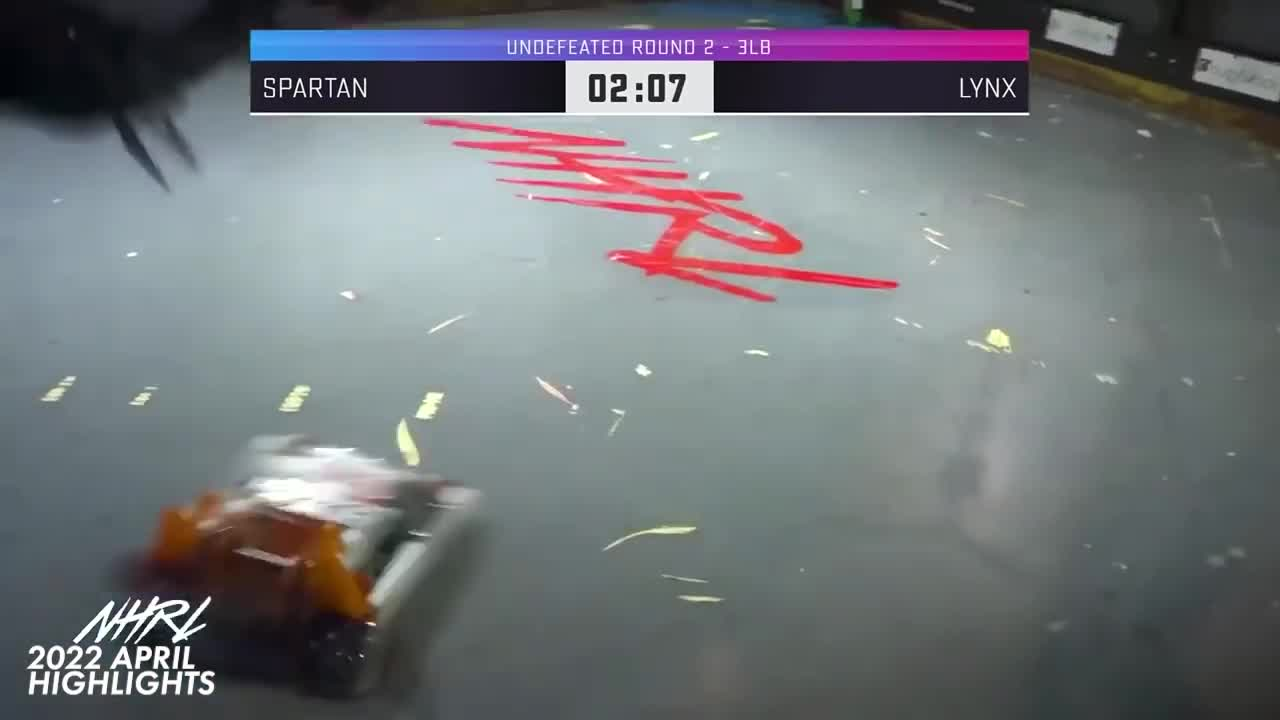combatbot: (137, 430, 487, 696)
